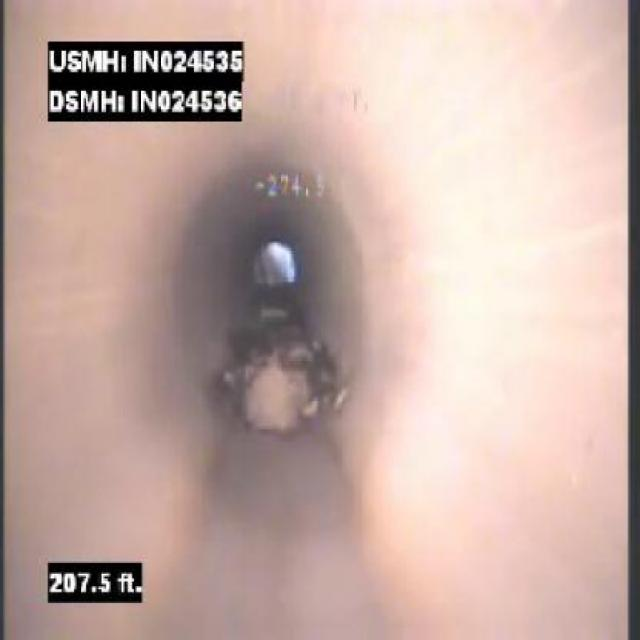Debris: (214, 337, 372, 465)
